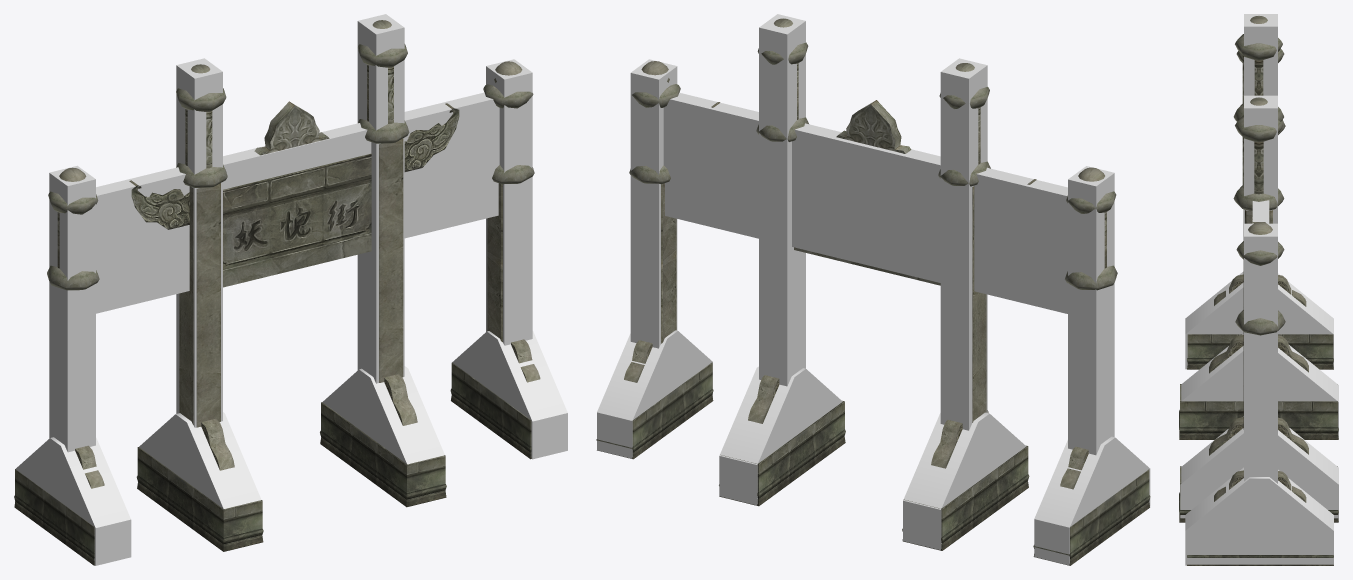
The model's file is YHJ_paifang.FBX.
3 renders of one model, left to right at view 1: azimuth 30°, elevation 25°; view 2: azimuth 150°, elevation 25°; view 3: azimuth 270°, elevation 25°, orthographic. The views are drawn at different scales.
Visible parts, largest first — view 1: YHJ_paifang-col, YHJ_paifang; view 2: YHJ_paifang-col, YHJ_paifang; view 3: YHJ_paifang-col, YHJ_paifang.
Boxes of the visible parts, bbox=[...] form: YHJ_paifang-col: bbox=[15, 14, 567, 565]; YHJ_paifang: bbox=[14, 20, 540, 565]; YHJ_paifang-col: bbox=[597, 14, 1150, 565]; YHJ_paifang: bbox=[596, 18, 1150, 565]; YHJ_paifang-col: bbox=[1180, 14, 1338, 565]; YHJ_paifang: bbox=[1179, 16, 1338, 565].
Size of the model in its own units: 10.78 by 9.6 by 3.36.
